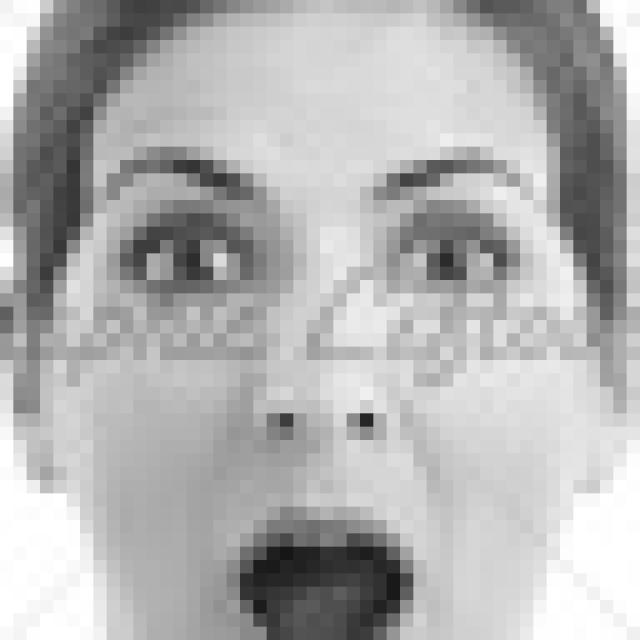surprise: (91, 135, 546, 640)
